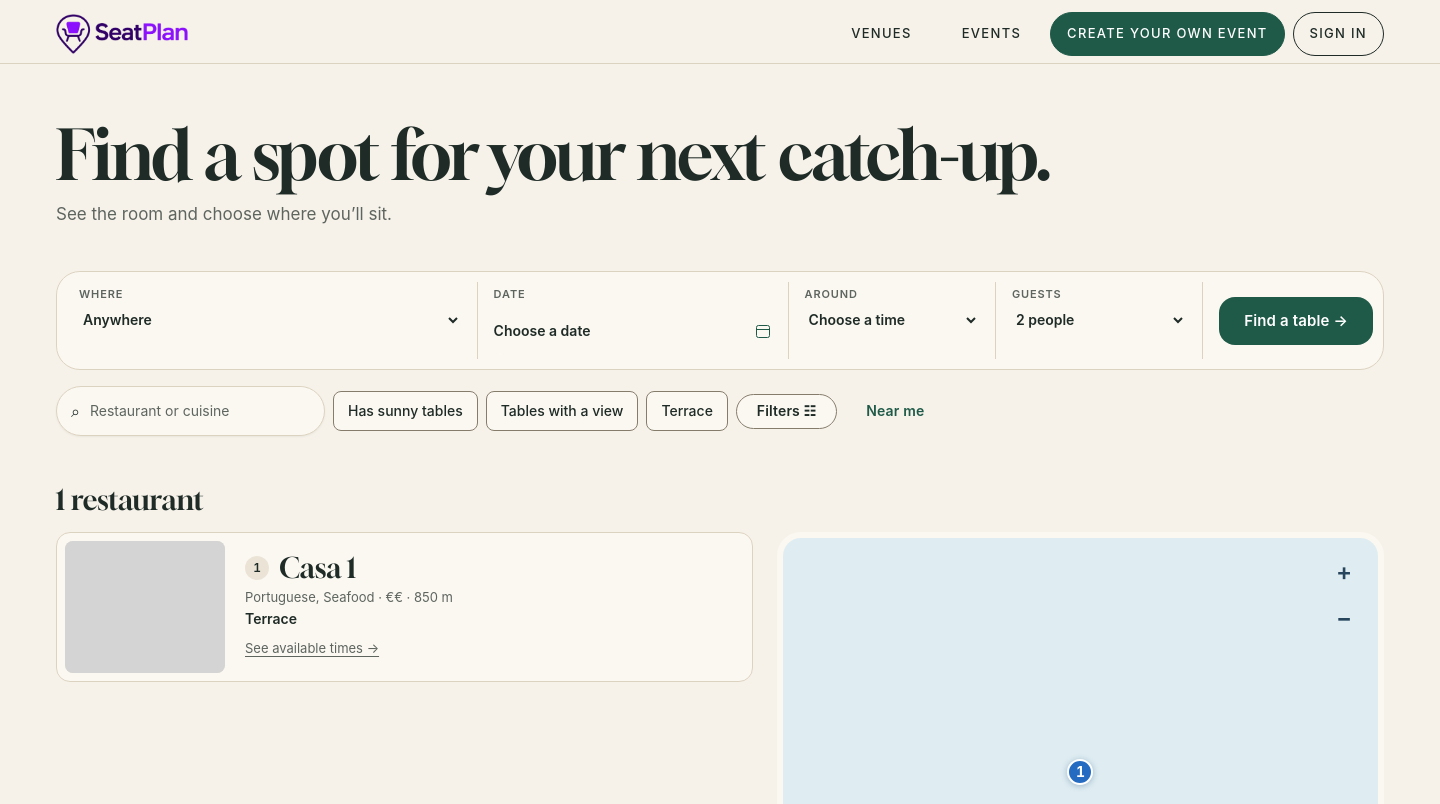
Test: DiscoverPage: the command bar › falls back to a city when the browser refuses the location, and remembers the city
Later steps or results of the test are not shown.
expect the heading "1 Casa 1" is shown: met, box [245,551,356,584]
Click the button "Near me". click: (895, 411)
box: [845,394,945,429]
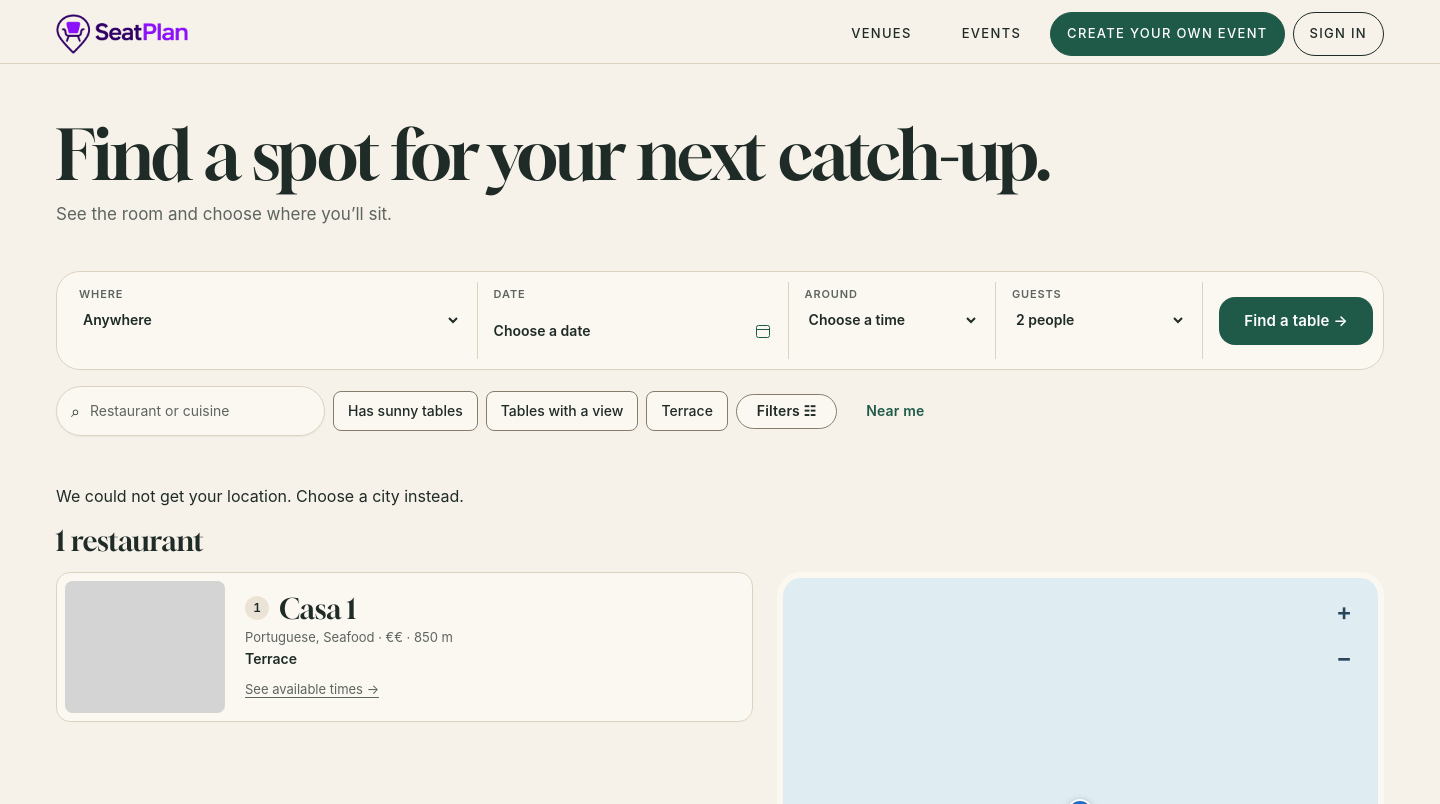
expect the text "We could not get your location. Choose a city instead." is shown: met, box [56,486,464,506]
